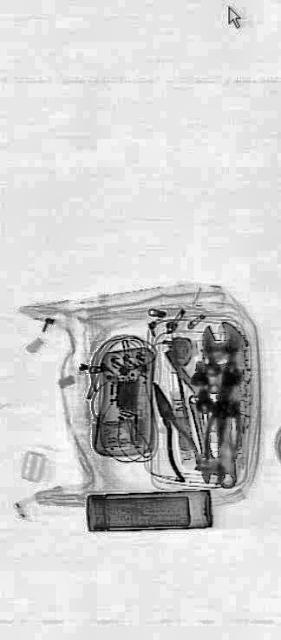Pliers: (144, 366, 200, 490)
Wrench: (200, 318, 248, 492)
